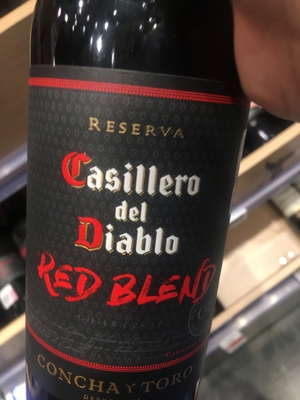casillero del diablo red blend: (19, 8, 245, 400)
